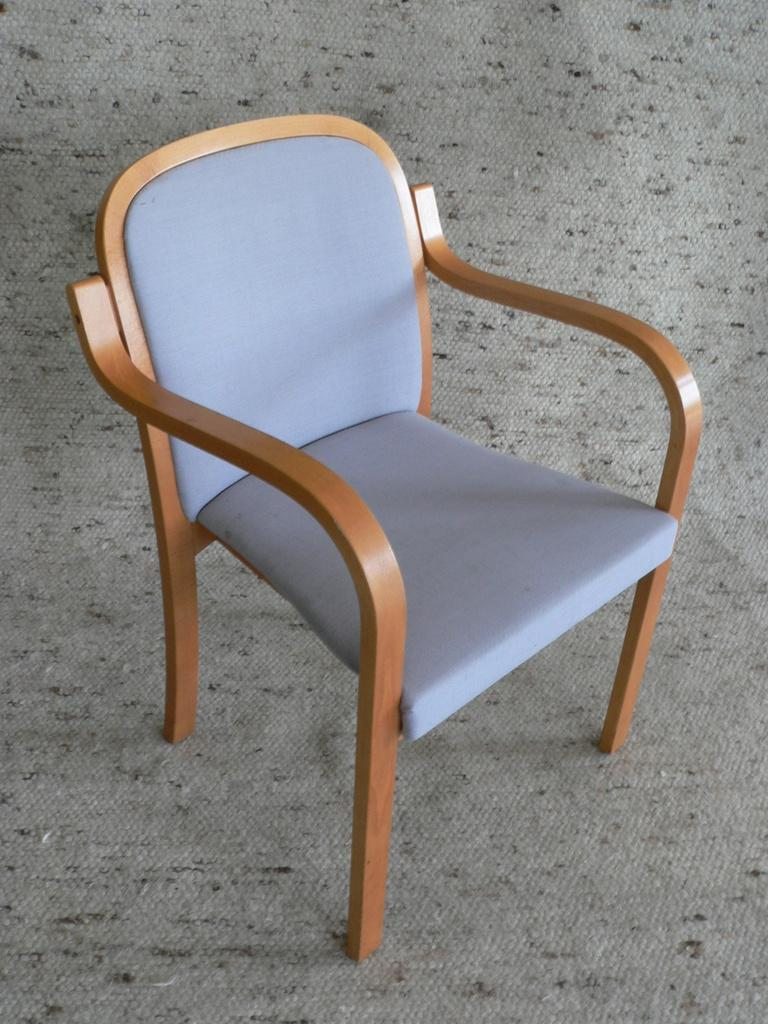Chair: (61, 124, 707, 961)
